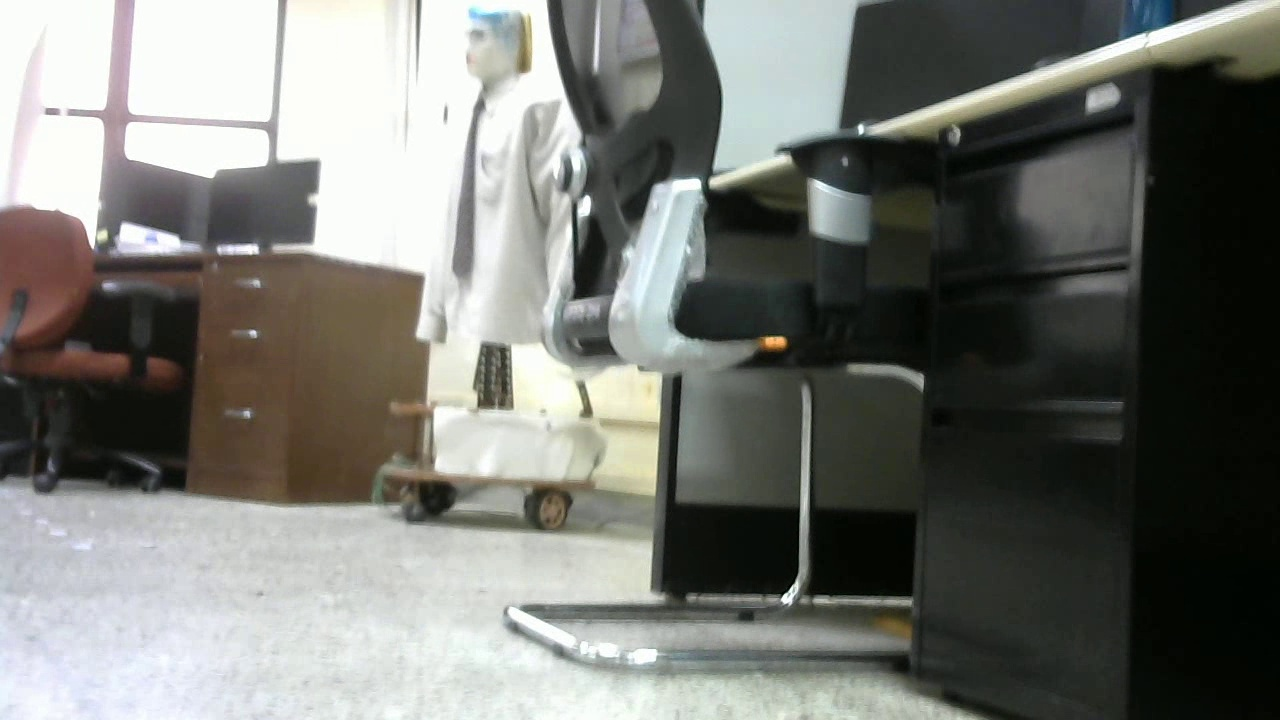chair: (502, 1, 931, 669), (1, 200, 177, 495)
